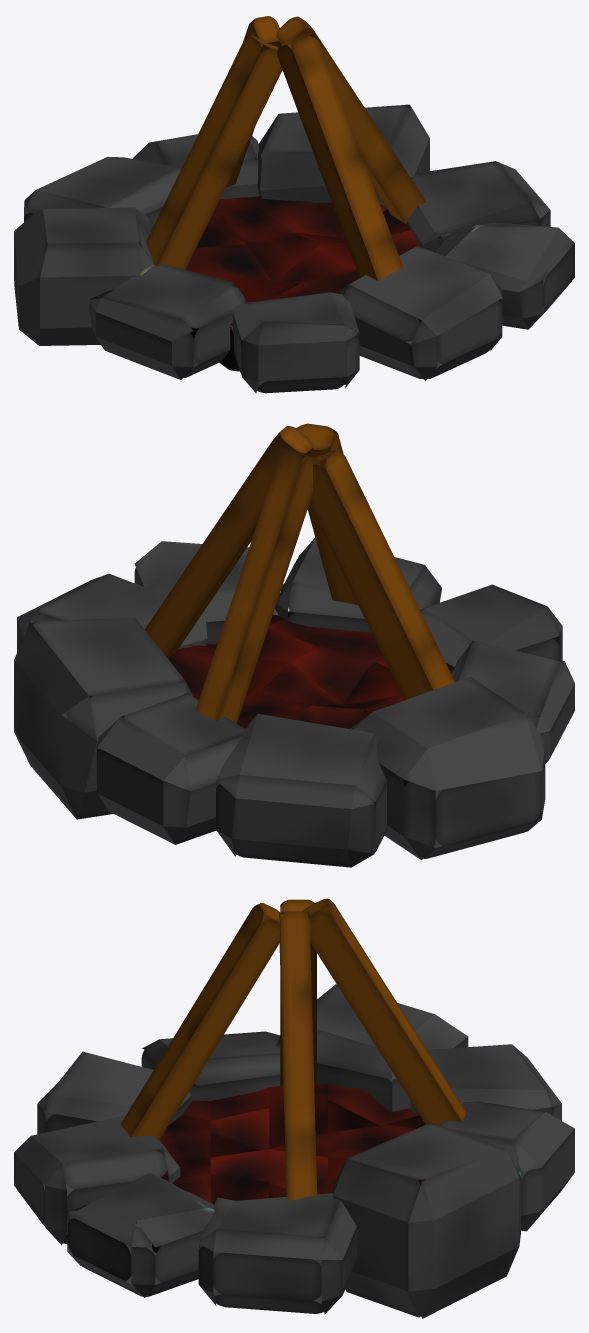
Rendered from campfire.fbx.
3 renders of one model, top to bottom at view 1: azimuth 30°, elevation 25°; view 2: azimuth 150°, elevation 25°; view 3: azimuth 270°, elevation 25°, orthographic. The views are drawn at different scales.
Parts seen in each view (by area): view 1: beveled_cuboid_2, cuboid, beveled_cuboid_5, beveled_cuboid_4, cuboid_1, cuboid_3, beveled_cuboid_3, beveled_cuboid_1, beveled_cuboid, beveled_cuboid_8, beveled_cuboid_6, cuboid_2 (+2 smaller); view 2: beveled_cuboid_5, beveled_cuboid_6, beveled_cuboid_8, beveled_cuboid_7, cuboid, cuboid_1, cuboid_4, cuboid_2, beveled_cuboid_3, beveled_cuboid_4, beveled_cuboid_2, beveled_cuboid (+2 smaller); view 3: beveled_cuboid_8, cuboid, beveled_cuboid, beveled_cuboid_1, beveled_cuboid_2, cuboid_3, cuboid_4, cuboid_2, beveled_cuboid_5, beveled_cuboid_7, beveled_cuboid_3, beveled_cuboid_6 (+2 smaller).
Part boxes in pixels (x1,y1,x2,y2): beveled_cuboid_2: (340, 246, 502, 380); cuboid: (139, 196, 421, 371); beveled_cuboid_5: (14, 207, 154, 345); beveled_cuboid_4: (88, 264, 246, 379); cuboid_1: (146, 35, 282, 269); cuboid_3: (277, 34, 402, 280); beveled_cuboid_3: (233, 292, 359, 393); beveled_cuboid_1: (435, 222, 574, 329); beveled_cuboid: (407, 161, 550, 252); beveled_cuboid_8: (254, 104, 429, 208); beveled_cuboid_6: (24, 156, 180, 227); cuboid_2: (276, 16, 426, 223); beveled_cuboid_5: (350, 677, 545, 859); beveled_cuboid_6: (216, 713, 388, 867); beveled_cuboid_8: (14, 617, 192, 819); beveled_cuboid_7: (97, 693, 245, 844); cuboid: (168, 611, 408, 786); cuboid_1: (309, 450, 454, 700); cuboid_4: (183, 449, 320, 756); cuboid_2: (145, 426, 313, 658); beveled_cuboid_3: (420, 584, 562, 672); beveled_cuboid_4: (451, 640, 574, 763); beveled_cuboid_2: (275, 537, 441, 665); beveled_cuboid: (17, 573, 207, 697); beveled_cuboid_8: (332, 1123, 520, 1318); cuboid: (152, 1083, 425, 1252); beveled_cuboid: (198, 1193, 357, 1314); beveled_cuboid_1: (67, 1172, 221, 1297); beveled_cuboid_2: (14, 1115, 180, 1245); cuboid_3: (120, 903, 282, 1140); cuboid_4: (302, 898, 466, 1125); cuboid_2: (279, 911, 317, 1200); beveled_cuboid_5: (275, 984, 468, 1111); beveled_cuboid_7: (440, 1101, 574, 1231); beveled_cuboid_3: (37, 1051, 192, 1134); beveled_cuboid_6: (410, 1044, 561, 1140).
Bounding box in the file's own units: 204 × 121 × 191.
1 material, 1 textured.
